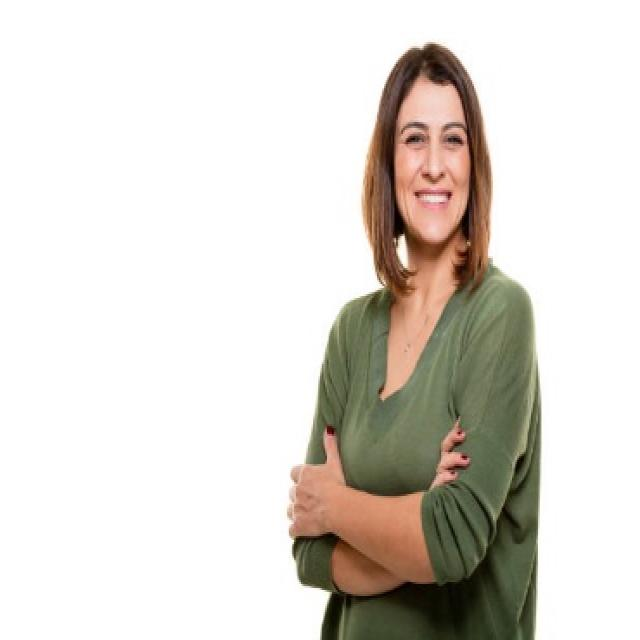adult: (280, 35, 555, 640)
